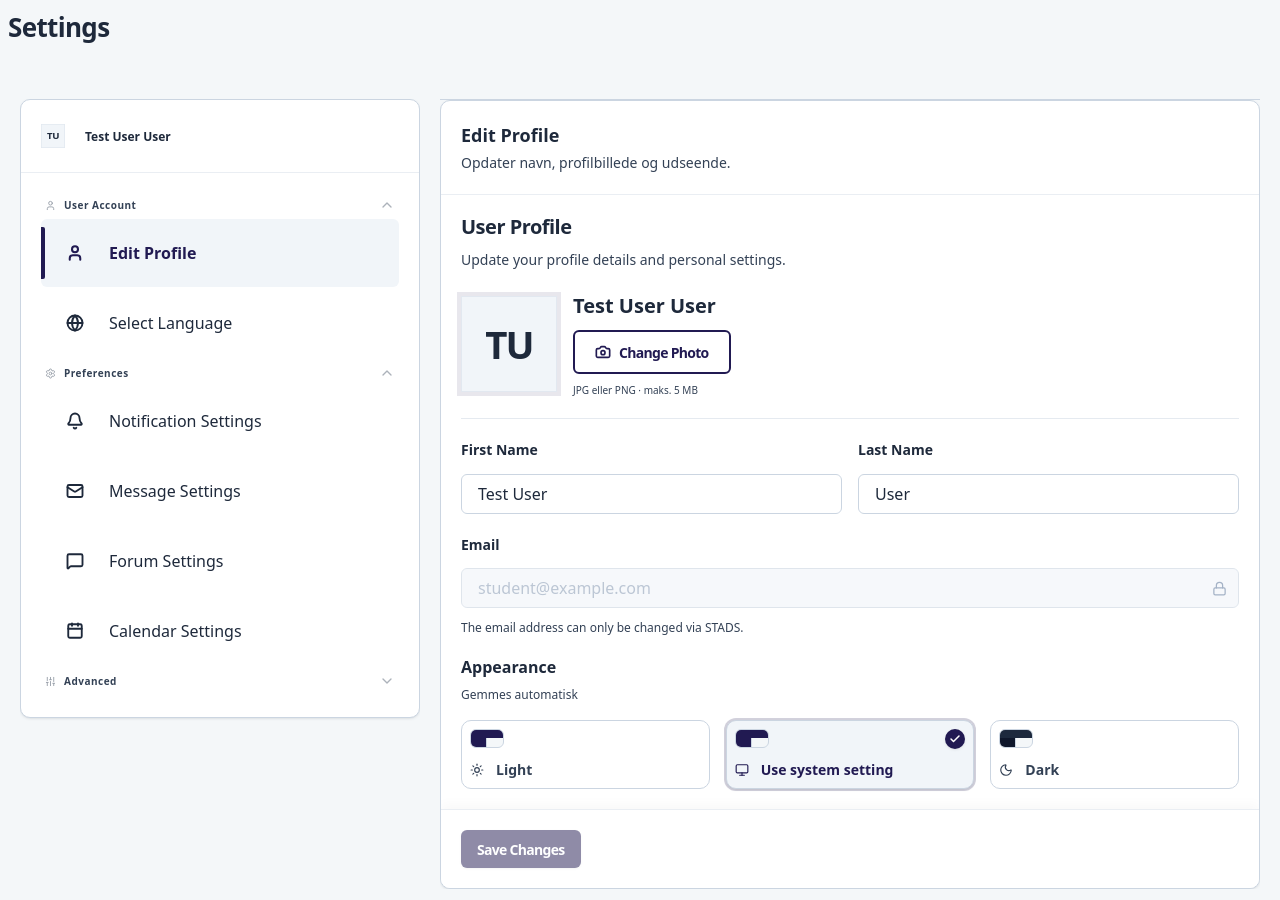
Settings Page › navigates to language tab via click
The image size is (1280, 900).
Step 1. Click the button "Select Language" → (220, 323), box [41, 289, 399, 357]
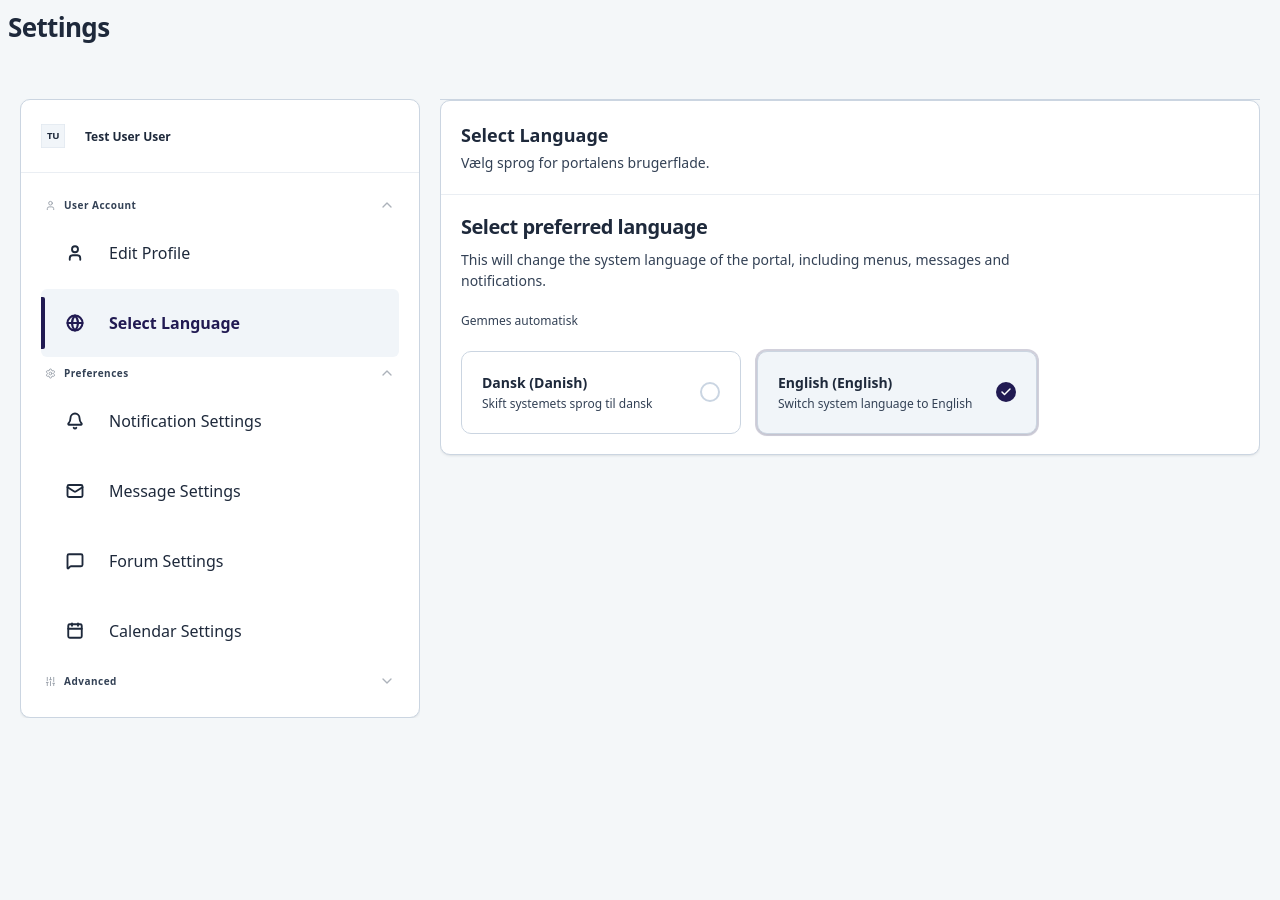
Check: the heading "Select preferred language" is shown, box [461, 213, 707, 240]
